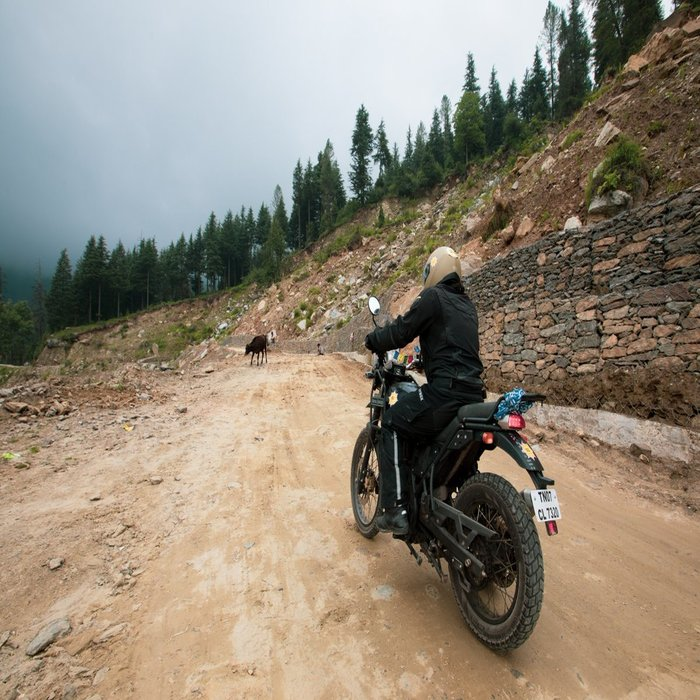h: (421, 243, 464, 294)
n: (528, 488, 563, 522)
